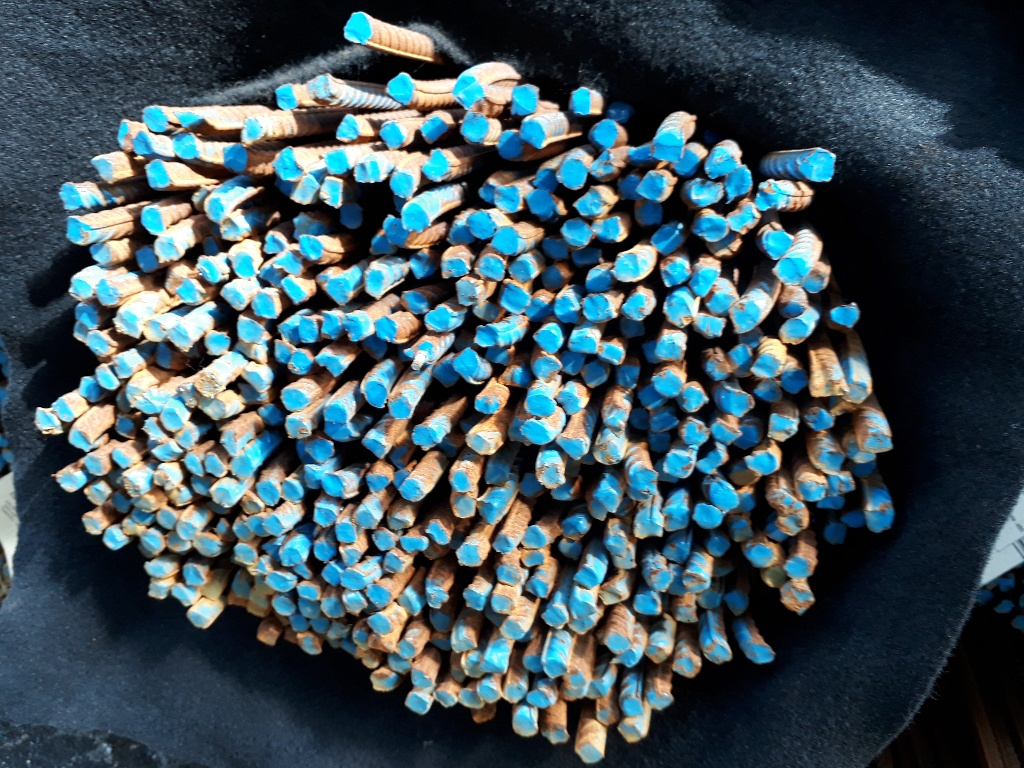dipstick: (769, 491, 810, 536), (799, 146, 837, 184), (689, 256, 722, 299), (704, 277, 740, 314), (636, 171, 678, 202), (727, 198, 763, 234), (754, 179, 792, 212), (593, 475, 625, 514), (673, 143, 709, 177), (611, 252, 649, 283), (696, 441, 730, 475), (272, 147, 305, 181), (724, 163, 752, 203), (703, 147, 738, 179), (685, 178, 723, 207), (728, 300, 761, 333), (692, 214, 729, 243), (280, 273, 317, 302), (555, 159, 587, 191), (499, 283, 531, 315), (344, 312, 377, 343), (649, 226, 684, 255), (571, 187, 606, 216), (237, 316, 272, 345), (659, 257, 691, 288), (722, 387, 755, 417), (569, 87, 602, 117), (524, 190, 557, 220), (781, 585, 815, 614), (621, 292, 655, 321), (560, 219, 594, 248), (112, 350, 146, 379), (727, 342, 755, 377), (778, 285, 809, 316), (508, 85, 539, 116), (762, 230, 794, 260), (662, 296, 692, 328), (589, 215, 623, 243), (387, 70, 415, 104), (773, 258, 808, 285), (692, 313, 727, 340), (767, 412, 798, 442), (113, 310, 144, 340), (489, 227, 521, 256), (460, 110, 489, 142), (710, 418, 743, 446), (677, 416, 710, 444), (241, 365, 275, 392), (433, 354, 459, 389), (289, 175, 319, 205), (588, 119, 619, 148), (467, 210, 498, 239), (343, 12, 372, 43), (588, 147, 616, 179), (194, 368, 226, 396), (518, 119, 547, 149), (453, 349, 482, 379), (89, 153, 117, 184), (399, 289, 431, 316), (650, 136, 683, 162), (803, 263, 831, 293), (423, 151, 451, 181), (219, 281, 247, 311), (54, 469, 89, 493), (830, 302, 861, 329), (678, 386, 709, 413), (87, 330, 118, 357), (803, 407, 835, 433), (236, 339, 268, 365), (581, 296, 614, 321), (743, 452, 777, 476), (661, 504, 690, 532), (397, 587, 425, 616), (334, 114, 362, 143), (251, 291, 279, 320), (221, 143, 249, 172), (731, 458, 761, 485), (554, 295, 581, 325), (492, 185, 522, 212), (402, 202, 429, 232), (409, 251, 436, 281), (153, 462, 183, 489), (638, 384, 669, 410), (555, 434, 586, 460), (542, 264, 573, 290), (155, 345, 186, 371), (692, 504, 724, 529), (383, 216, 408, 248), (496, 131, 524, 159), (229, 250, 257, 278), (420, 115, 447, 144), (324, 277, 353, 304), (141, 105, 168, 134), (523, 394, 557, 417), (752, 378, 782, 404), (561, 515, 591, 541), (750, 354, 781, 379), (663, 452, 694, 477), (520, 420, 551, 445), (454, 276, 479, 307), (707, 234, 742, 256), (654, 337, 686, 361), (651, 373, 683, 397), (321, 176, 344, 209), (84, 479, 112, 506), (672, 654, 702, 679), (633, 592, 663, 617), (306, 439, 336, 464), (306, 74, 336, 99), (174, 131, 199, 161), (498, 364, 529, 388), (191, 533, 222, 557), (271, 251, 303, 274), (458, 83, 485, 110), (195, 255, 222, 282), (166, 323, 193, 350), (174, 421, 201, 448), (74, 303, 101, 330), (779, 318, 807, 344), (634, 199, 662, 225), (533, 329, 561, 355), (536, 462, 564, 488), (746, 543, 775, 568), (314, 353, 343, 378), (166, 265, 191, 294), (796, 477, 826, 501), (363, 268, 387, 298), (846, 439, 877, 462), (815, 450, 846, 473), (533, 357, 564, 380), (238, 382, 269, 405), (860, 430, 892, 452), (810, 378, 847, 397), (864, 508, 891, 534), (733, 423, 759, 450), (556, 390, 583, 416), (479, 255, 506, 281), (423, 305, 450, 331), (144, 160, 170, 187), (153, 238, 180, 264), (95, 278, 121, 305), (592, 440, 620, 465), (594, 696, 619, 724), (390, 170, 415, 198), (410, 425, 438, 450), (380, 122, 405, 150), (239, 116, 264, 144), (204, 330, 232, 355), (122, 471, 150, 496), (600, 404, 629, 428), (471, 323, 500, 347), (60, 179, 82, 210), (760, 563, 786, 589), (581, 362, 607, 388), (519, 472, 545, 498), (362, 382, 388, 408), (428, 606, 454, 632), (585, 268, 612, 293), (615, 362, 640, 389), (423, 585, 450, 610), (255, 480, 280, 507), (199, 396, 226, 421), (140, 207, 165, 234), (64, 216, 89, 243), (780, 370, 808, 394), (783, 555, 811, 579), (631, 468, 659, 492), (455, 543, 483, 567), (374, 315, 398, 343), (299, 233, 323, 261), (293, 213, 321, 237), (264, 570, 296, 591), (96, 362, 120, 390), (141, 417, 169, 441), (33, 407, 61, 431), (203, 194, 226, 223), (142, 558, 177, 577), (649, 412, 680, 433), (654, 458, 680, 483), (451, 494, 477, 519), (342, 590, 367, 616), (706, 354, 730, 381), (598, 581, 625, 605), (218, 215, 242, 242), (597, 342, 625, 365), (576, 741, 604, 764), (543, 238, 571, 261), (826, 471, 855, 493), (279, 314, 301, 343), (633, 518, 663, 539), (440, 257, 470, 278), (279, 389, 309, 410), (748, 641, 773, 666), (603, 533, 628, 558), (560, 350, 585, 375), (508, 259, 533, 284), (366, 583, 391, 608), (321, 473, 346, 498), (714, 486, 740, 510), (723, 592, 747, 618), (426, 520, 450, 546), (142, 317, 166, 343), (141, 529, 167, 553), (81, 510, 105, 536), (67, 277, 93, 301), (541, 606, 568, 629), (367, 612, 394, 635), (340, 202, 363, 229), (705, 642, 733, 664), (464, 433, 492, 455), (246, 554, 274, 576), (78, 375, 100, 403), (568, 334, 597, 355), (405, 691, 430, 715), (373, 528, 398, 552), (258, 403, 283, 427), (171, 583, 196, 607), (619, 174, 642, 200), (524, 576, 550, 599), (276, 84, 299, 110), (85, 453, 111, 476), (135, 246, 158, 272), (828, 394, 855, 416), (386, 396, 413, 418), (133, 394, 160, 416), (682, 574, 713, 593), (405, 342, 436, 361), (299, 314, 318, 345), (353, 161, 381, 182), (541, 725, 570, 745), (574, 565, 598, 589), (534, 167, 559, 190), (525, 298, 550, 321), (472, 299, 497, 322), (288, 351, 313, 374), (204, 453, 227, 478), (148, 577, 173, 600), (550, 479, 576, 501), (521, 526, 547, 548), (512, 715, 538, 737), (264, 232, 290, 254), (246, 592, 268, 618), (102, 528, 128, 550), (54, 396, 76, 422), (567, 616, 597, 635), (617, 722, 644, 743), (339, 569, 366, 590), (185, 609, 212, 630), (662, 543, 690, 563), (303, 462, 323, 490), (352, 620, 370, 651), (562, 666, 586, 689), (477, 500, 500, 524), (370, 669, 394, 692), (273, 340, 297, 363), (132, 131, 155, 155), (177, 280, 201, 303), (159, 408, 182, 432), (68, 428, 92, 451), (572, 246, 601, 265), (628, 143, 653, 165), (570, 596, 595, 618), (500, 618, 525, 640), (399, 478, 424, 500), (362, 437, 387, 459), (286, 418, 311, 440), (297, 633, 322, 655), (201, 575, 223, 600), (844, 382, 870, 403), (696, 588, 722, 609), (464, 651, 485, 677), (433, 687, 459, 708), (296, 580, 322, 601), (178, 382, 199, 408), (618, 318, 645, 338), (647, 691, 674, 711), (458, 688, 485, 708), (325, 422, 352, 442), (220, 429, 240, 456), (175, 109, 205, 127), (322, 404, 350, 423), (120, 517, 148, 536), (730, 518, 753, 541), (233, 542, 256, 565), (168, 483, 191, 506), (115, 415, 138, 438), (731, 490, 755, 512), (559, 538, 583, 560), (502, 681, 526, 703), (281, 478, 305, 500), (314, 506, 338, 528), (190, 474, 214, 496), (155, 508, 179, 530), (669, 565, 686, 596), (605, 633, 630, 654), (490, 593, 515, 614), (449, 471, 474, 492), (370, 234, 395, 255), (297, 598, 322, 619), (166, 531, 191, 552), (611, 549, 637, 569), (541, 659, 567, 679), (525, 689, 551, 709), (475, 395, 501, 415), (448, 225, 474, 245), (452, 75, 478, 95), (181, 564, 207, 584), (116, 120, 133, 150), (152, 442, 182, 459), (383, 551, 405, 574), (261, 263, 284, 285), (321, 562, 343, 585), (706, 536, 730, 557), (629, 408, 650, 432), (521, 548, 549, 566), (497, 564, 521, 585), (333, 522, 357, 543), (321, 598, 345, 619), (90, 241, 111, 265), (738, 327, 763, 347), (646, 642, 668, 664), (586, 678, 608, 700), (175, 518, 197, 540), (823, 523, 846, 544), (767, 522, 790, 543), (464, 588, 485, 611), (390, 444, 411, 467), (190, 186, 210, 210), (365, 472, 390, 491), (272, 597, 297, 616), (241, 495, 266, 514), (673, 606, 699, 624), (493, 533, 515, 554), (587, 498, 607, 521), (394, 639, 417, 659), (112, 490, 132, 513), (842, 509, 866, 528), (608, 102, 632, 121), (256, 627, 280, 646), (471, 703, 496, 721), (387, 512, 412, 530), (850, 459, 876, 476), (440, 435, 462, 455), (389, 654, 411, 674), (279, 547, 301, 567), (486, 345, 509, 364), (232, 522, 255, 541), (185, 453, 204, 476), (478, 685, 502, 703), (367, 635, 392, 652), (816, 494, 844, 509), (652, 571, 673, 591), (650, 433, 671, 453), (400, 537, 430, 551), (263, 515, 284, 535), (621, 697, 643, 716), (313, 541, 335, 560), (245, 517, 267, 536), (263, 539, 281, 562), (480, 659, 507, 674), (113, 448, 133, 468), (618, 650, 639, 669), (486, 465, 507, 484), (309, 615, 330, 634), (712, 558, 734, 576), (131, 494, 153, 512), (410, 670, 433, 687), (327, 622, 350, 639), (559, 685, 585, 700), (453, 637, 477, 653), (296, 437, 312, 461), (293, 561, 313, 580), (212, 488, 232, 507), (125, 382, 143, 403), (643, 341, 660, 363), (425, 543, 448, 559), (524, 654, 543, 673), (485, 607, 504, 626), (477, 181, 496, 200), (450, 664, 468, 684), (233, 578, 251, 598), (131, 509, 155, 524), (340, 548, 361, 565), (229, 457, 250, 474), (202, 234, 219, 255), (392, 468, 410, 487), (290, 614, 309, 631), (628, 488, 651, 501), (73, 320, 87, 341), (226, 593, 247, 606), (214, 516, 229, 534)
